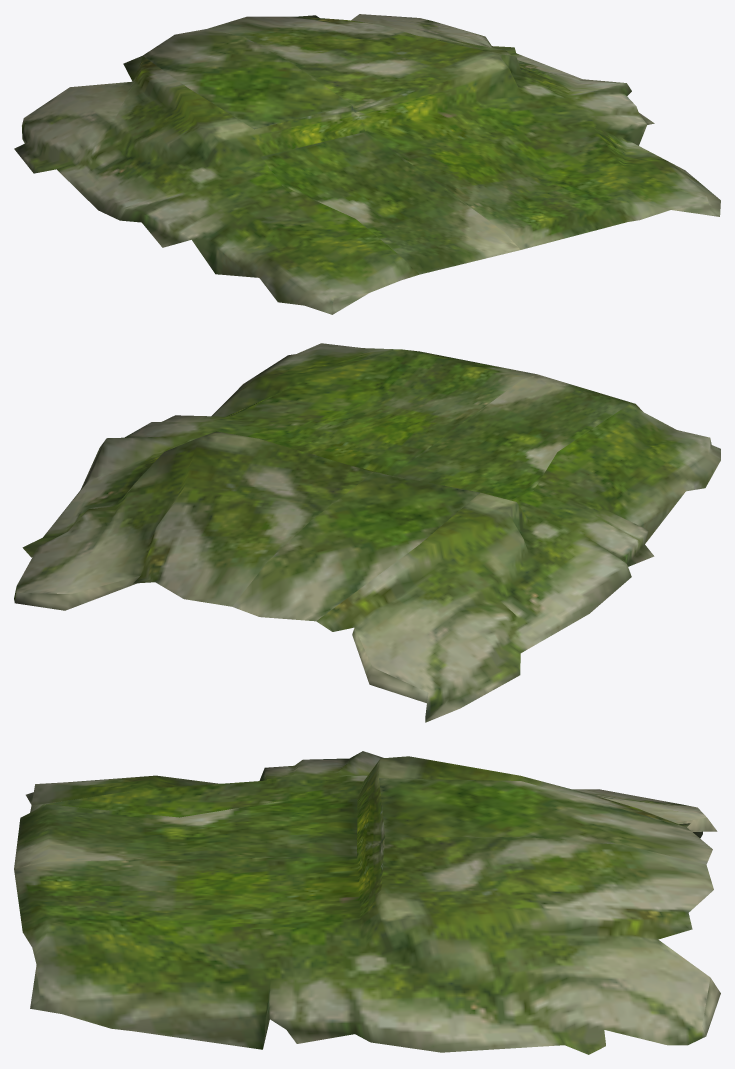
The model's file is S_Rock_Green056_1060_3.fbx.
3 renders of one model, top to bottom at view 1: azimuth 30°, elevation 25°; view 2: azimuth 150°, elevation 25°; view 3: azimuth 270°, elevation 25°, orthographic. The views are drawn at different scales.
Visible parts, largest first — view 1: S_Rock_Green056_1060_3; view 2: S_Rock_Green056_1060_3; view 3: S_Rock_Green056_1060_3.
Boxes of the visible parts, bbox=[...] form: S_Rock_Green056_1060_3: bbox=[14, 14, 720, 314]; S_Rock_Green056_1060_3: bbox=[14, 343, 720, 722]; S_Rock_Green056_1060_3: bbox=[14, 751, 720, 1054].
Bounding box in the file's own units: 1249 × 233 × 1310.
